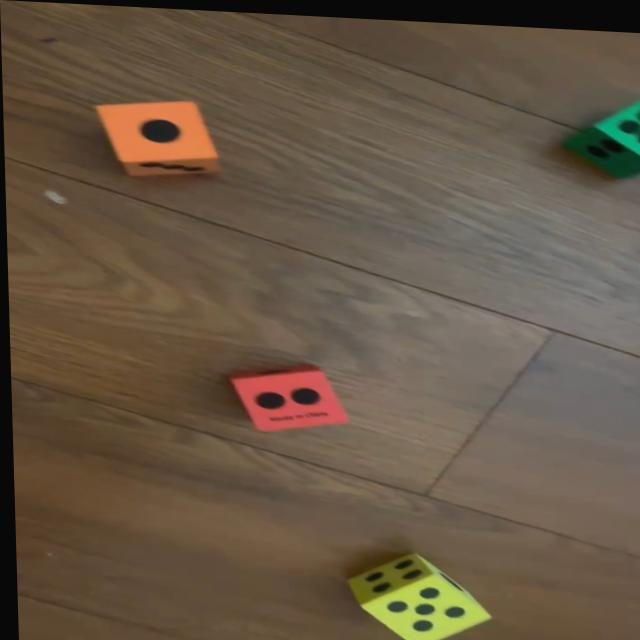cube: (231, 357, 344, 433), (563, 88, 640, 173)
